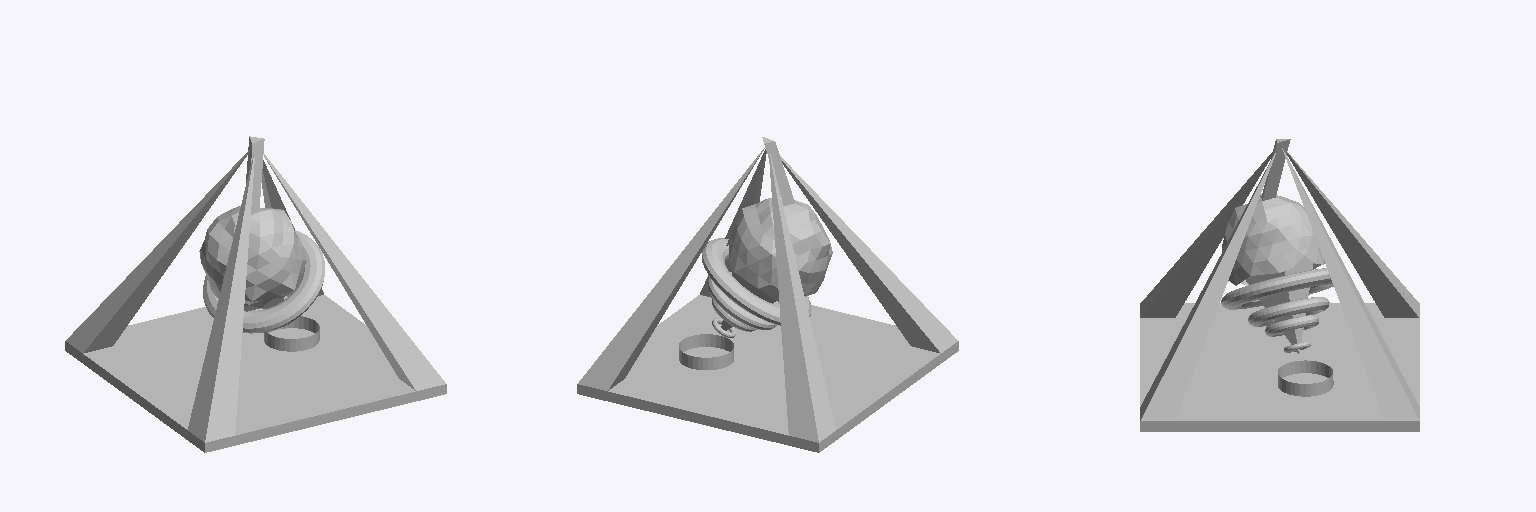
Rendered from mounted shrink ray.obj.
3 renders of one model, left to right at view 1: azimuth 30°, elevation 25°; view 2: azimuth 150°, elevation 25°; view 3: azimuth 270°, elevation 25°, orthographic.
Visible parts, largest first — view 1: Cube.001, Circle; view 2: Cube.001, Circle; view 3: Cube.001, Circle.
Part boxes in pixels (x1,y1,x2,y2): Cube.001: (65,136,446,452); Circle: (264,316,319,351); Cube.001: (577,137,958,452); Circle: (679,334,733,369); Cube.001: (1140,139,1419,431); Circle: (1278,360,1333,396).
Bounding box in the file's own units: 5 × 4.61 × 5.